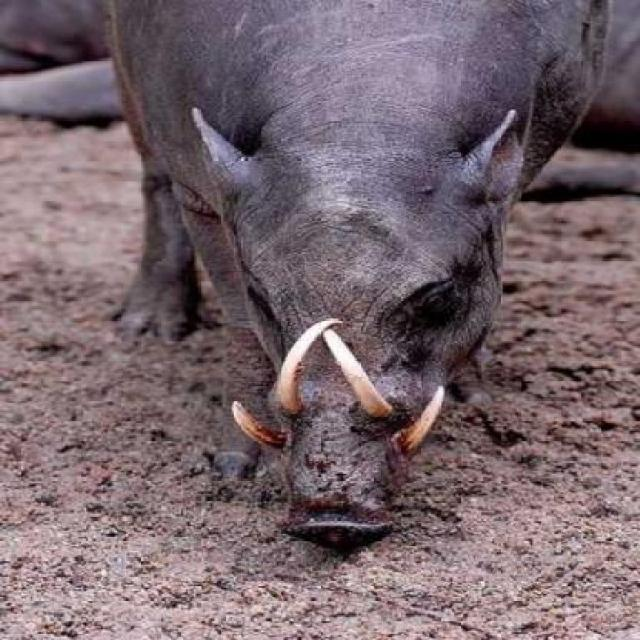pig: (80, 0, 638, 636)
